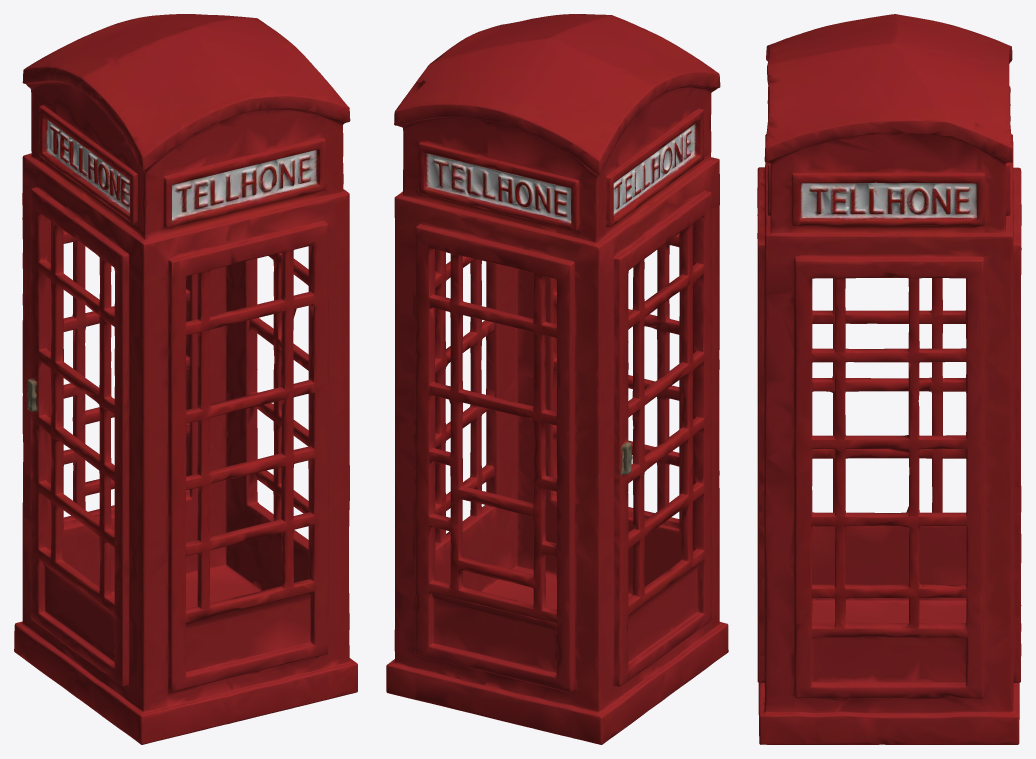
File: phone_booth.glb
3 views of the same model, side by side, from view 1: azimuth 30°, elevation 25°; view 2: azimuth 150°, elevation 25°; view 3: azimuth 270°, elevation 25° (orthographic). The views are drawn at different scales.
Visible parts, largest first — view 1: geometry_0; view 2: geometry_0; view 3: geometry_0.
Part boxes in pixels (left/top/right/bottom): geometry_0: left=14, top=14, right=357, bottom=744; geometry_0: left=386, top=14, right=728, bottom=744; geometry_0: left=757, top=14, right=1021, bottom=744.
Bounding box in the file's own units: 0.8857 × 2.4 × 0.883.
1 material, 1 textured.
